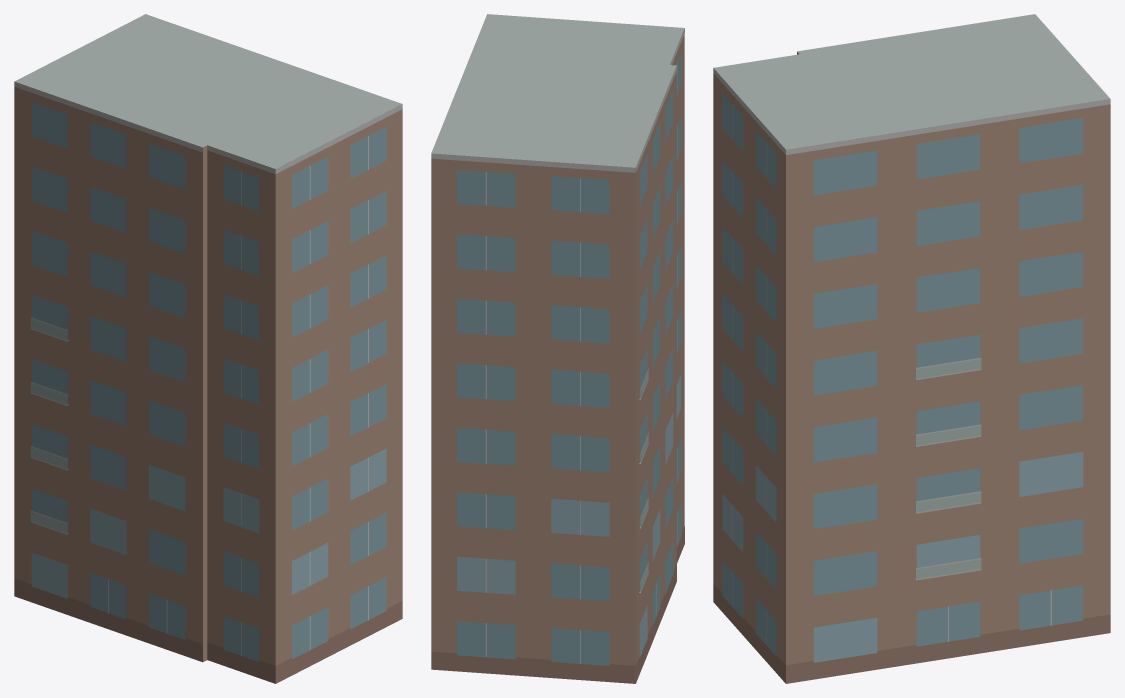
File: survey-upis-32853661.glb
3 renders of one model, left to right at view 1: azimuth 30°, elevation 25°; view 2: azimuth 150°, elevation 25°; view 3: azimuth 270°, elevation 25°, orthographic. The views are drawn at different scales.
Parts seen in each view (by area): view 1: survey-upis-32853661.tmp; view 2: survey-upis-32853661.tmp; view 3: survey-upis-32853661.tmp.
Boxes of the visible parts, x1,y1,x2,y2 form: survey-upis-32853661.tmp: (14,14,402,683); survey-upis-32853661.tmp: (431,14,684,683); survey-upis-32853661.tmp: (713,14,1110,683).
Size of the model in its own units: 13.32 by 24.4 by 16.46.
